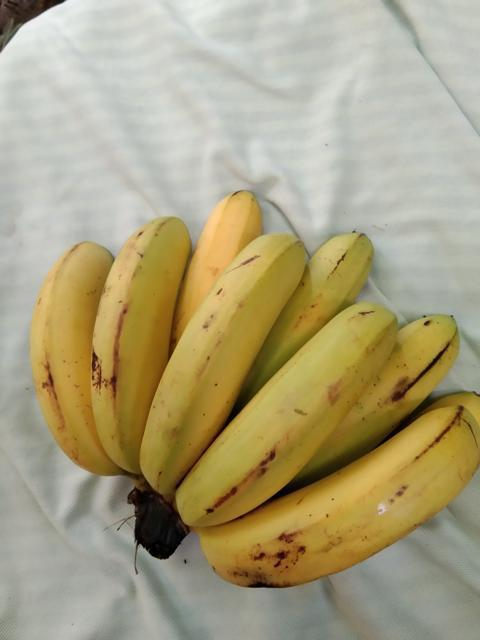ripe: (175, 296, 395, 548), (210, 399, 474, 590), (137, 222, 308, 487), (80, 213, 194, 484), (29, 218, 106, 482)
